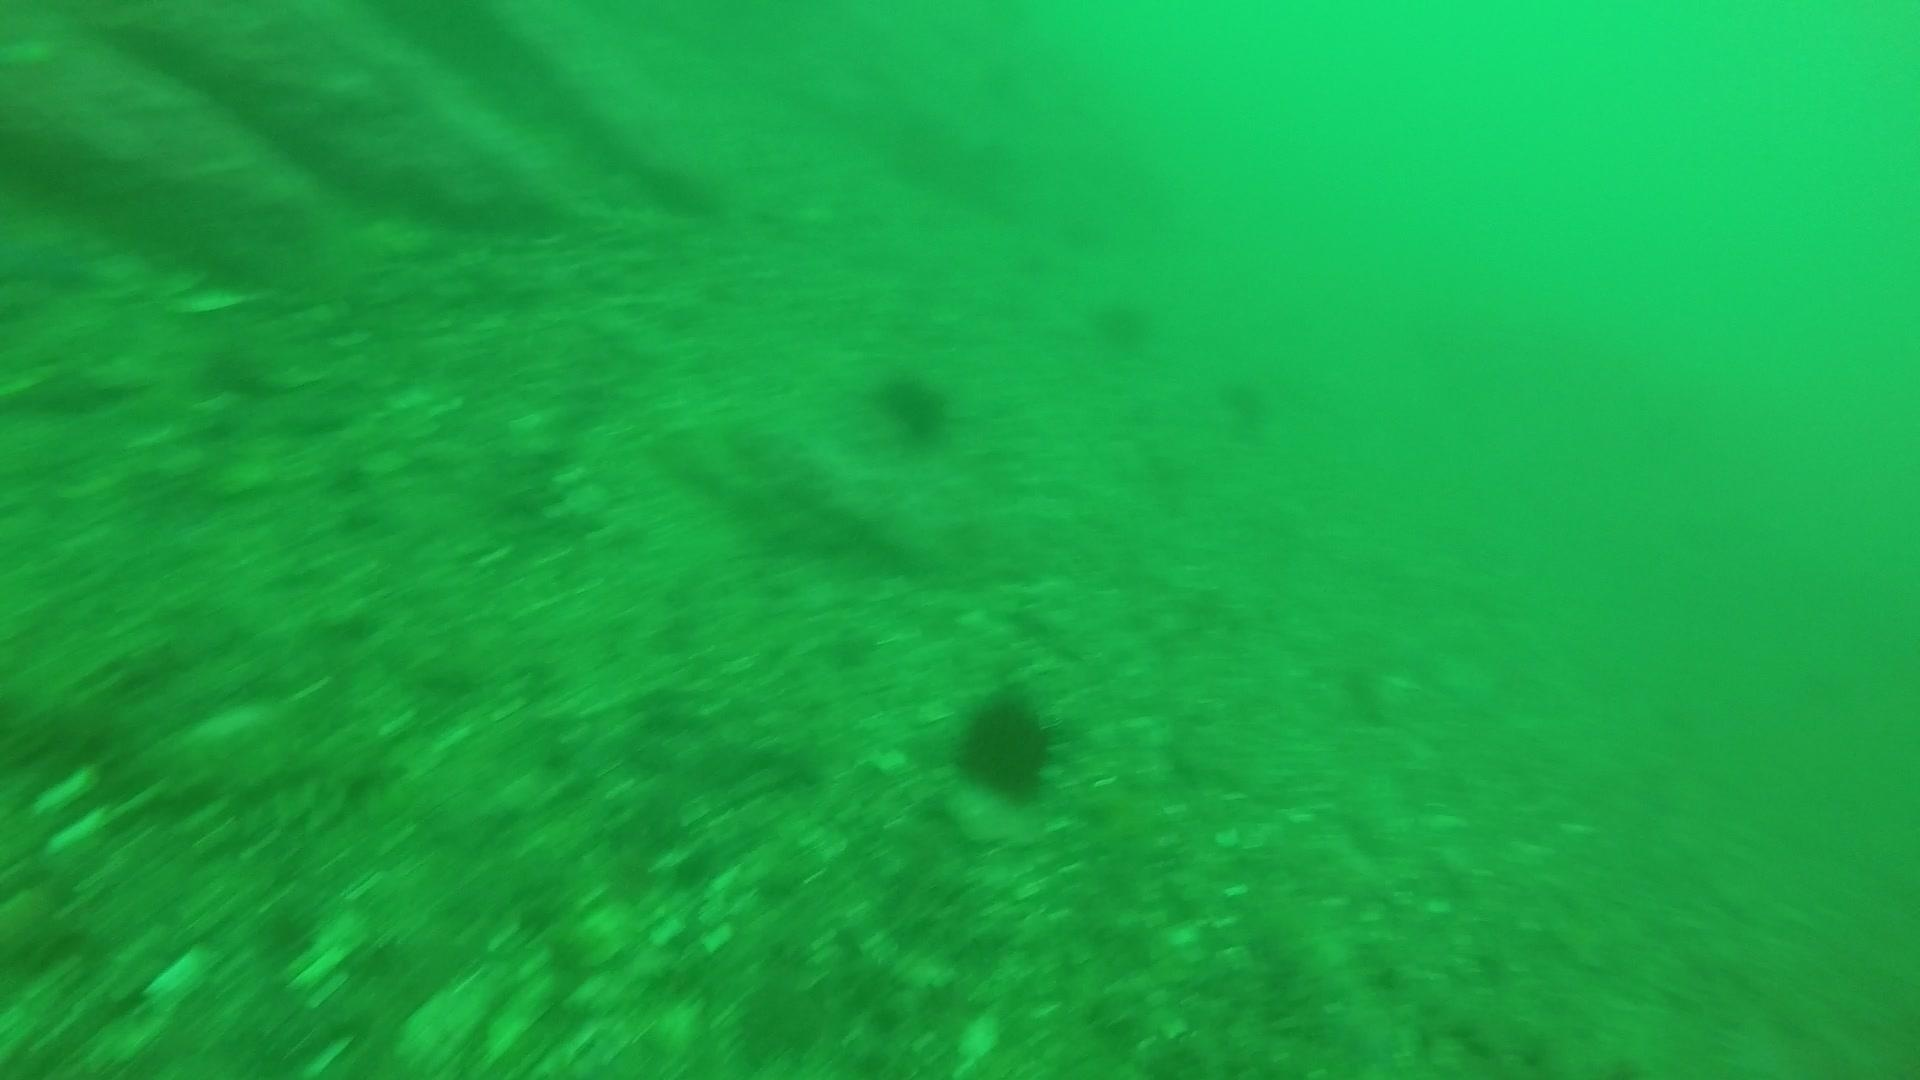echinus: (947, 683, 1067, 807), (865, 363, 957, 448), (1085, 287, 1160, 355), (1215, 369, 1278, 436)
